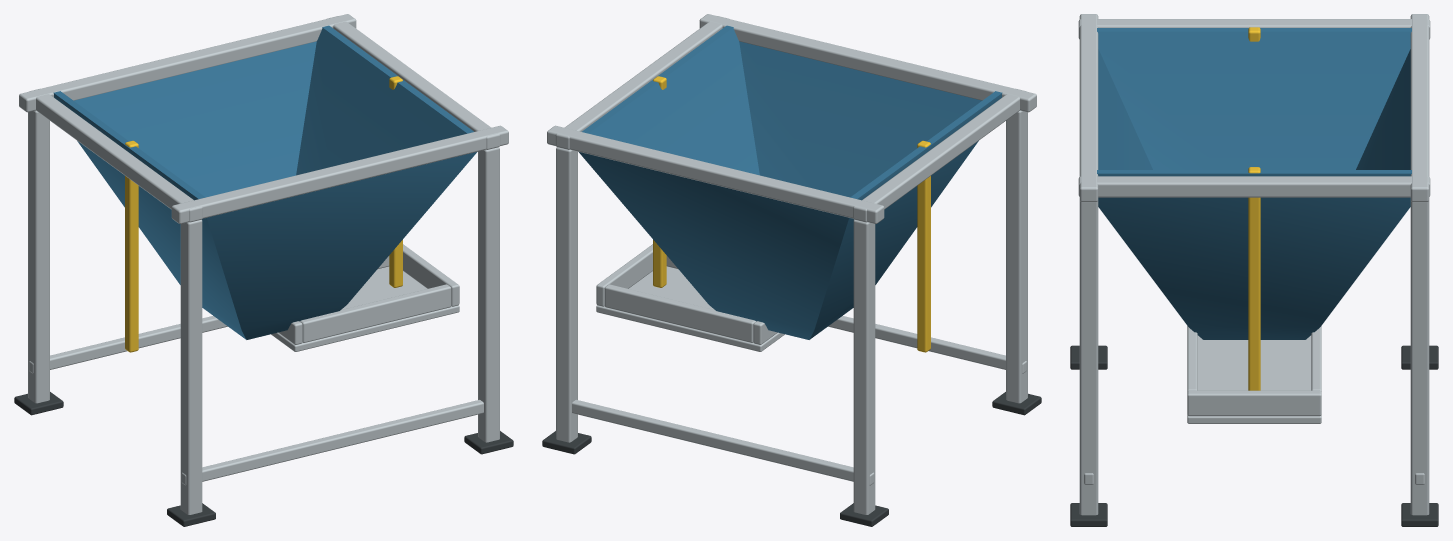
The model's file is recycling-centre-and-material-sorting-receiving-hopper-abea3579__31105.glb.
The picture shows the model from 3 angles, left to right: view 1: azimuth 30°, elevation 25°; view 2: azimuth 150°, elevation 25°; view 3: azimuth 270°, elevation 25°; orthographic projection. The views are drawn at different scales.
Parts seen in each view (by area): view 1: receiving-hopper; view 2: receiving-hopper; view 3: receiving-hopper.
Boxes of the visible parts, x1,y1,x2,y2 form: receiving-hopper: (14,14,513,526); receiving-hopper: (542,14,1041,526); receiving-hopper: (1070,14,1438,526).
Size of the model in its own units: 2 by 1.82 by 1.78.
